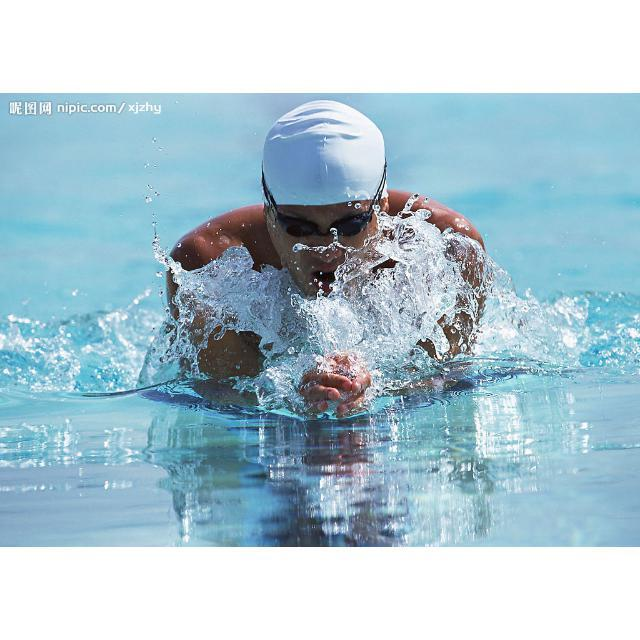human: (164, 97, 490, 422)
